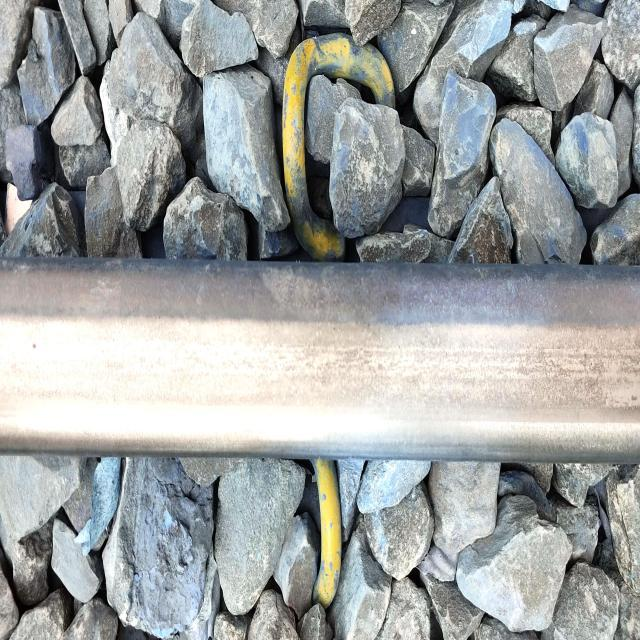Good Fasteners: (282, 33, 449, 262), (315, 459, 341, 608)
